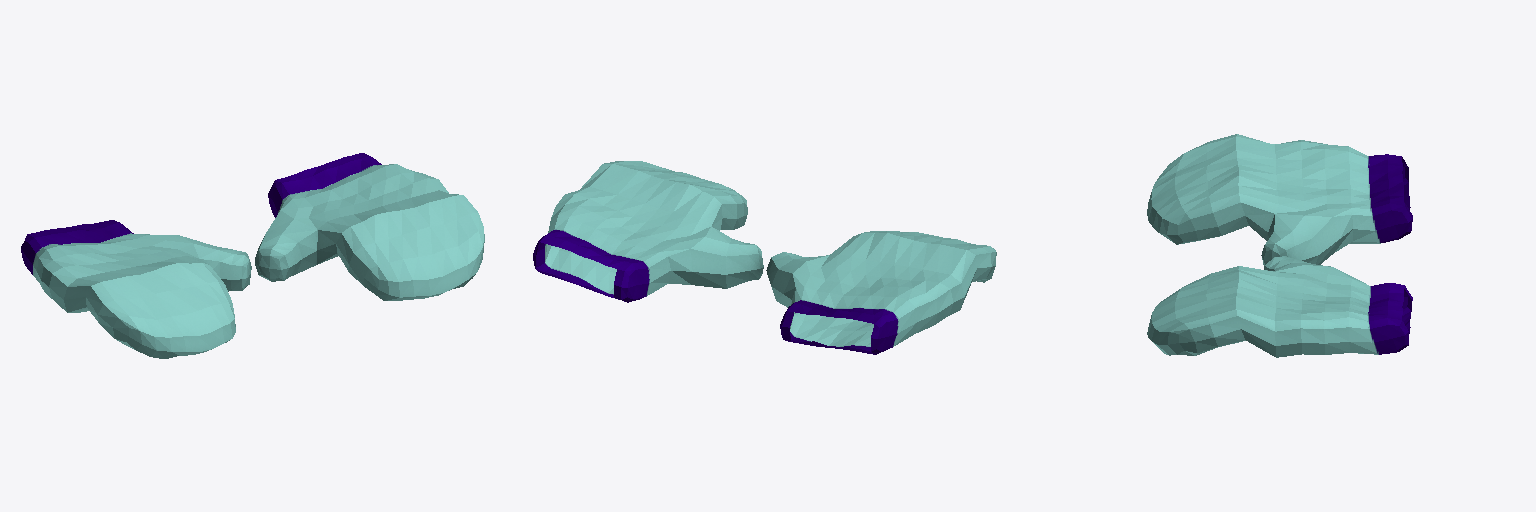
3 renders of one model, left to right at view 1: azimuth 30°, elevation 25°; view 2: azimuth 150°, elevation 25°; view 3: azimuth 270°, elevation 25°, orthographic.
Visible parts, largest first — view 1: gloves; view 2: gloves; view 3: gloves.
Boxes of the visible parts, <box> form: gloves: <box>21,153,484,358</box>; gloves: <box>533,161,996,354</box>; gloves: <box>1147,134,1412,357</box>.
Size of the model in its own units: 58.63 by 9.47 by 34.35.
Materials: 1 (1 with a texture image).